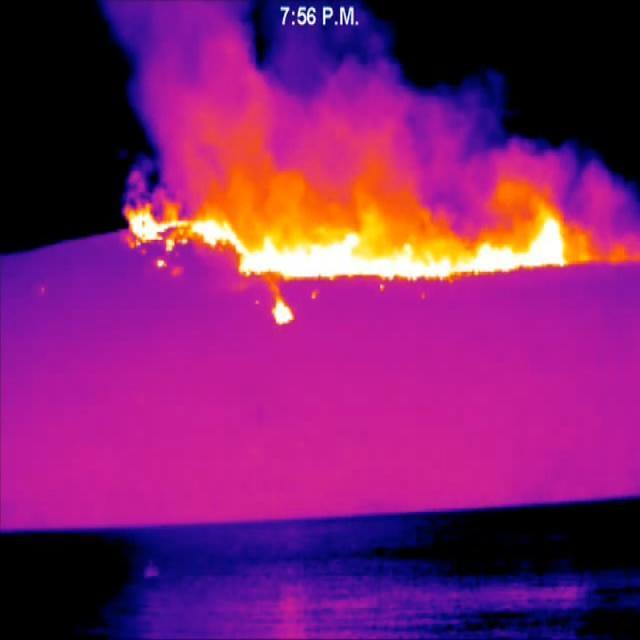fire: (124, 190, 588, 328)
